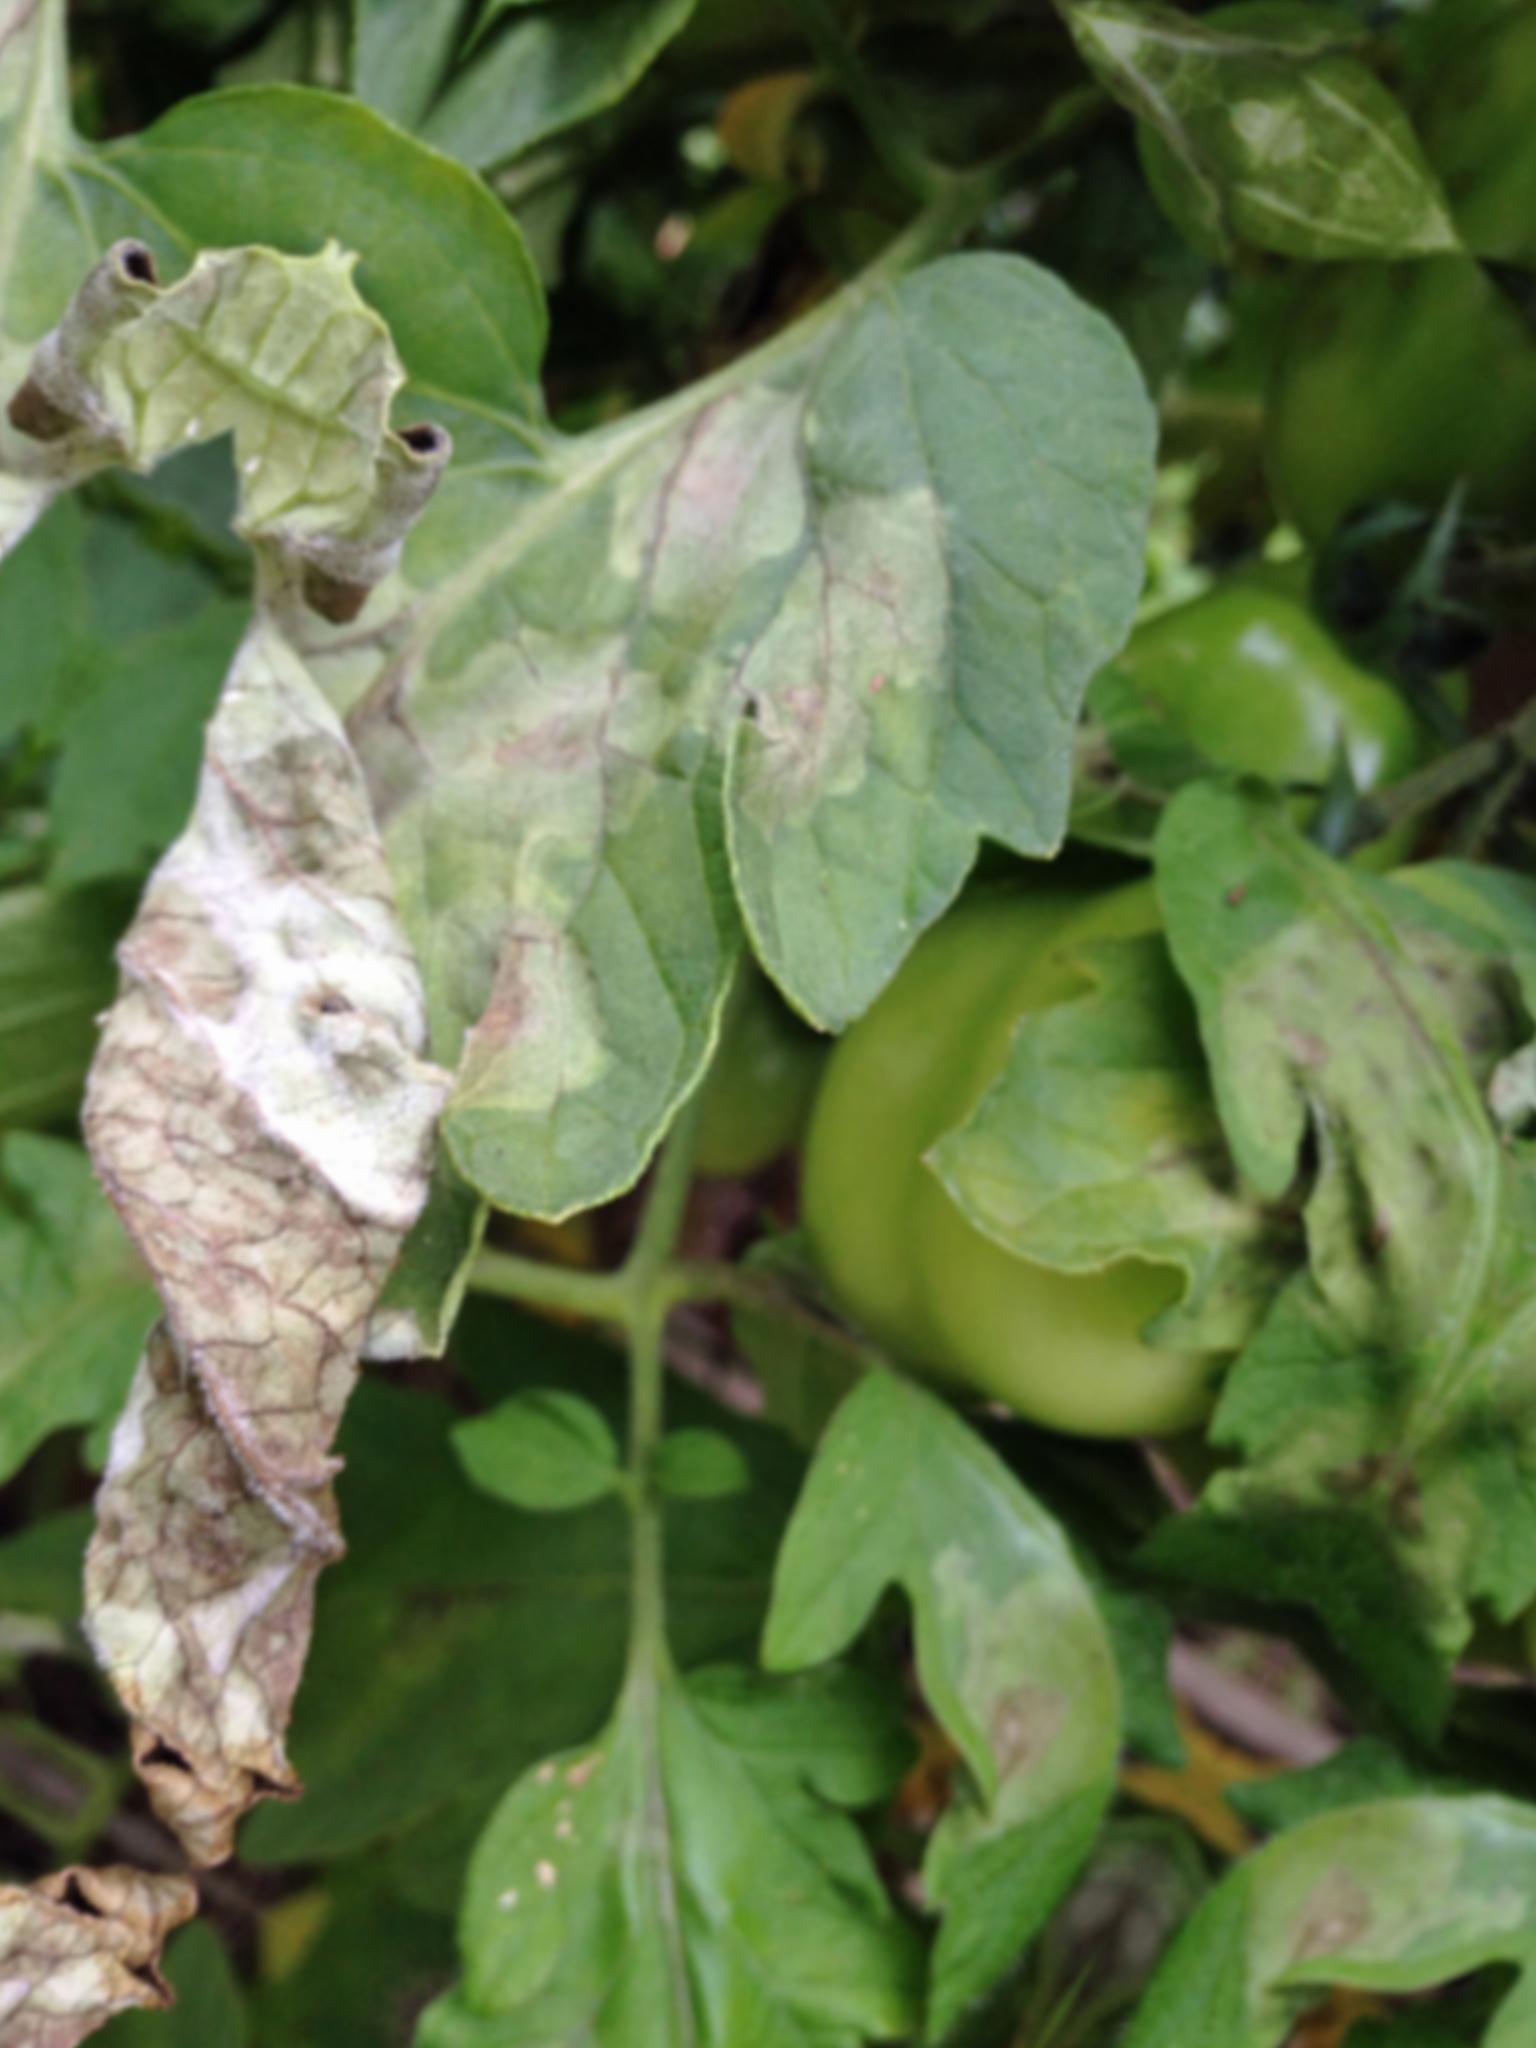Tomato leaf late blight: (168, 281, 1060, 1300), (490, 124, 1344, 1118), (497, 1229, 1325, 2040), (957, 734, 1536, 1435)
